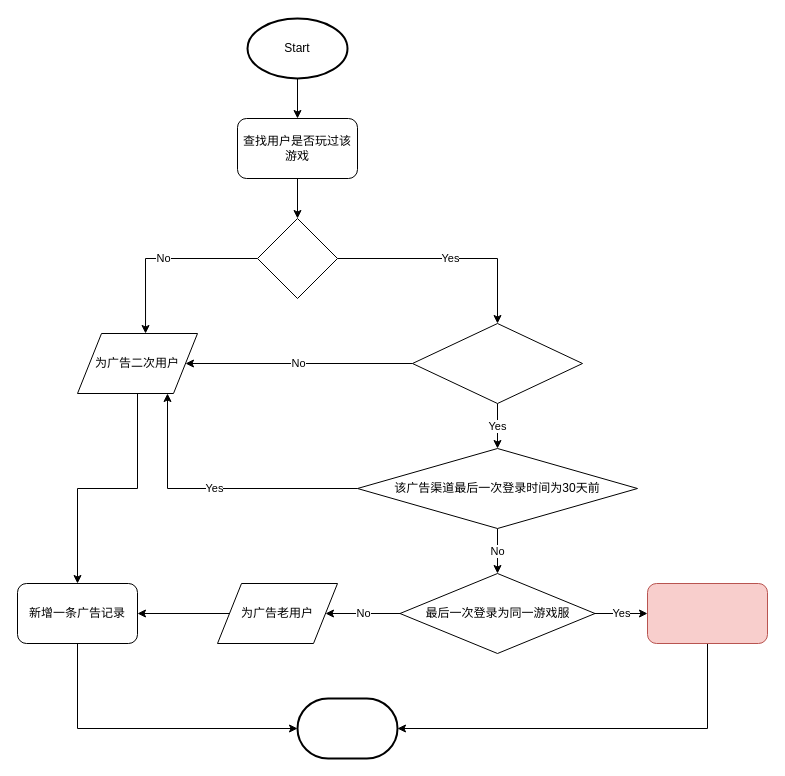
Image size: 785x776. Some labels were removed from this diagram. The centre of each missing label's shape, as x and y in pixels:
"End" belongs at point (347, 728).
"found？" belongs at point (297, 258).
"新增一条自然流量（本应该是修改最后时间，此应为bug）" belongs at point (707, 613).
"是否有同一广告渠道记录" belongs at point (497, 363).
